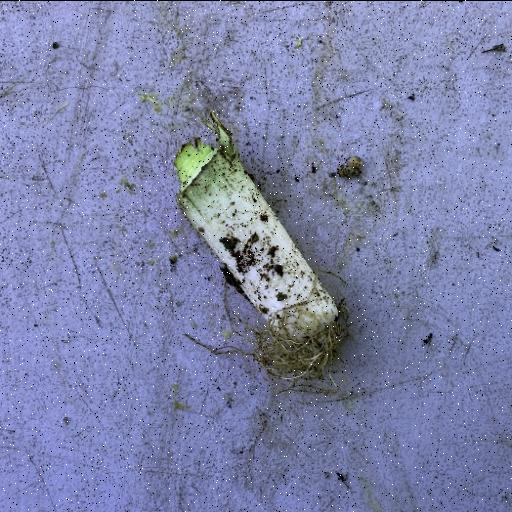Waste: (171, 109, 351, 389)
